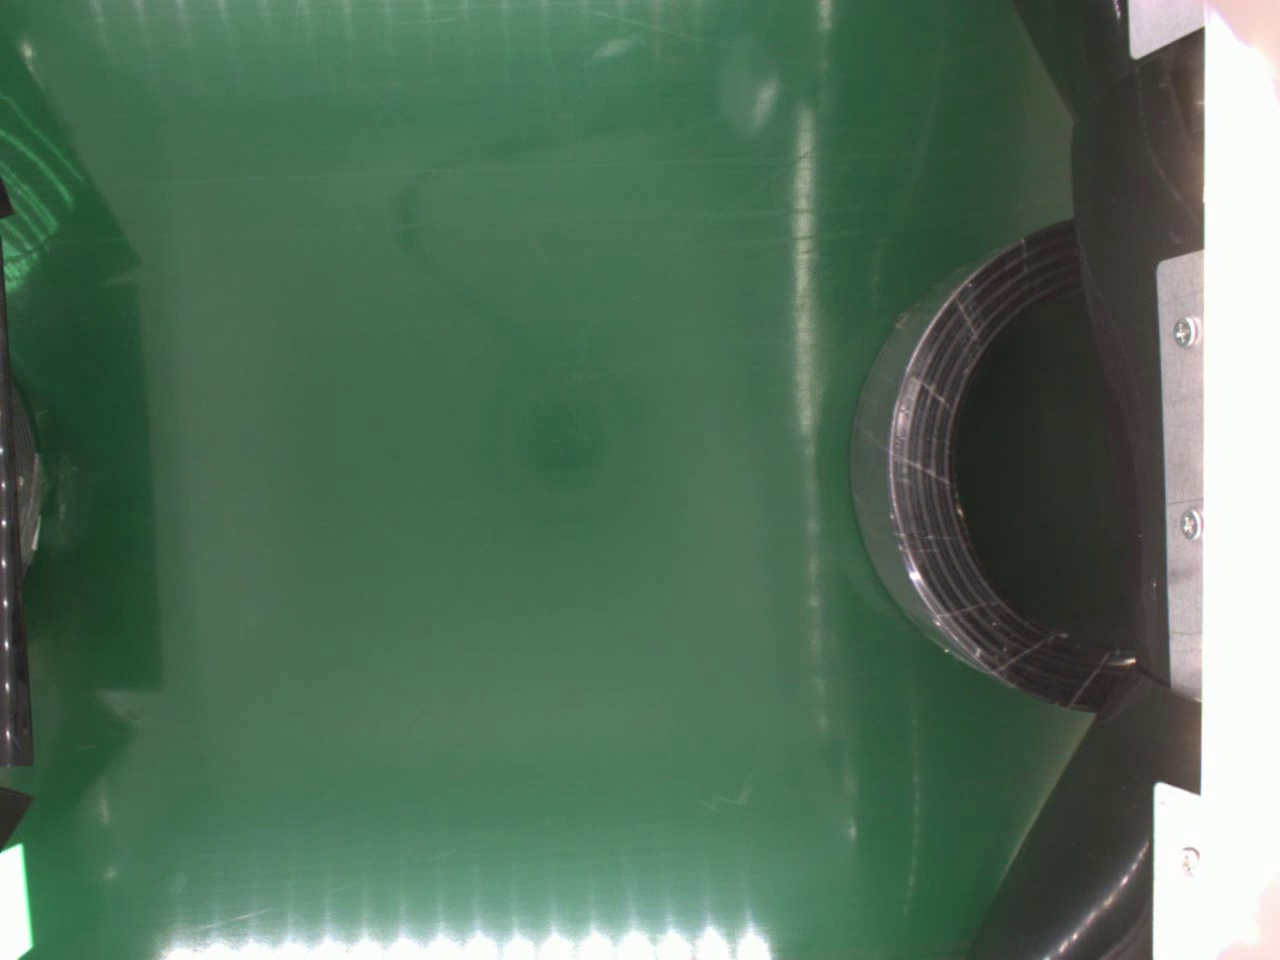black: (844, 211, 1136, 712)
